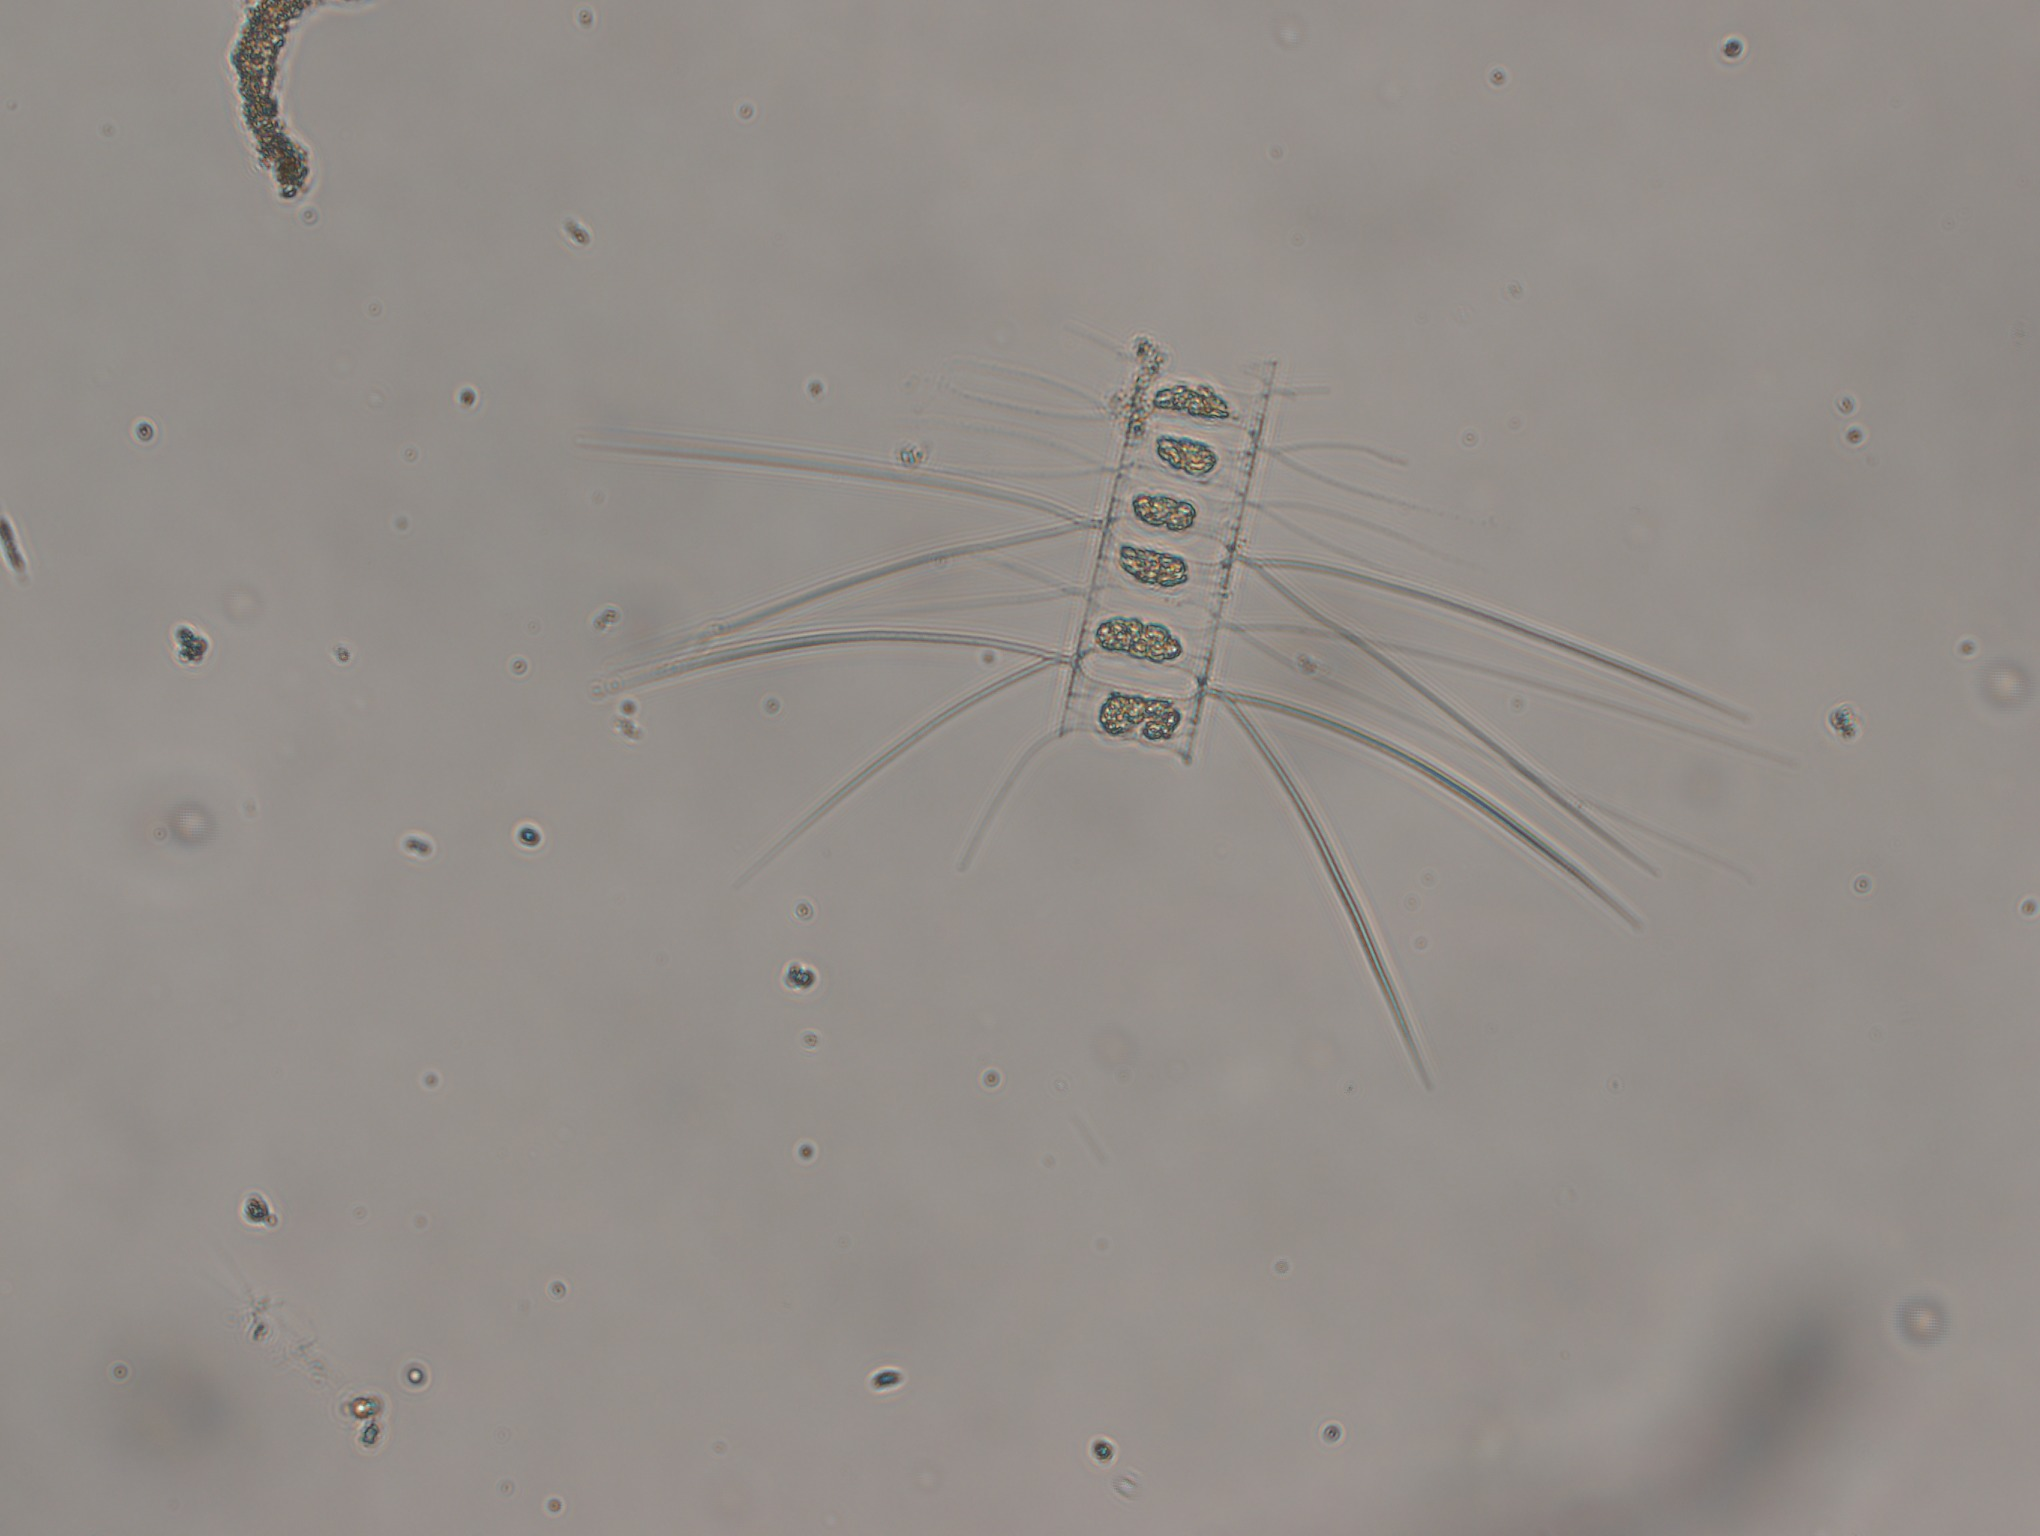chaetoceros: (579, 281, 1819, 1112)
